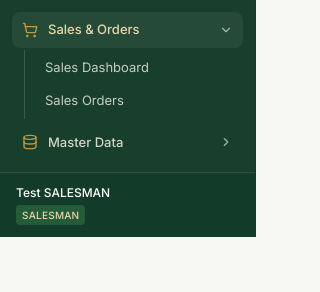
Scenario: Role-Based Authentication, Redirects & Dynamic Navigation › 5. Sidebar renders only permission-authorized navigation links per role
The image size is (320, 292).
Expected: the text "Sales Dashboard" is shown, [45, 58, 149, 77]
Expected: the text "Sales Orders" is shown, [45, 91, 124, 110]
What coordinates should you click on to do the following:
click the button "Master Data"
I would click on:
 (128, 142)
Its box is [12, 124, 243, 160].
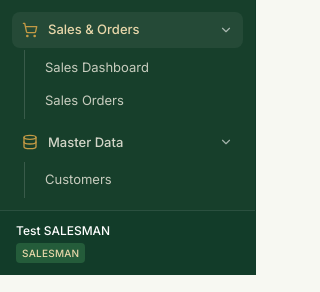
Expected: the text "Customers" is shown, [45, 170, 112, 190]
